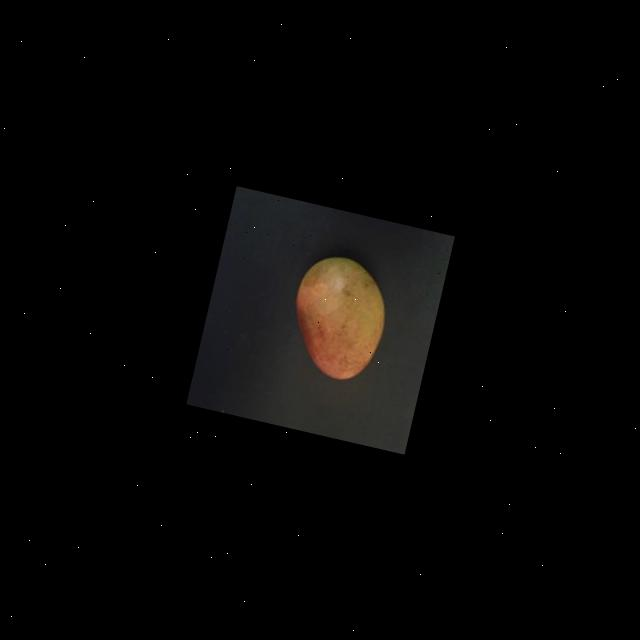Mango: (278, 248, 396, 388)
